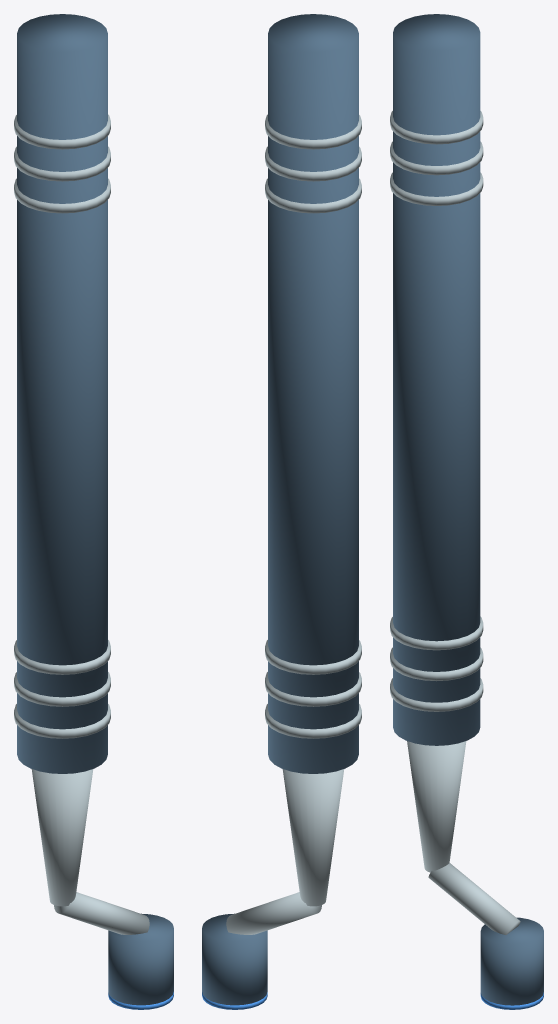
Rendered from curing.glb.
The picture shows the model from 3 angles, left to right: view 1: azimuth 30°, elevation 25°; view 2: azimuth 150°, elevation 25°; view 3: azimuth 330°, elevation 25°; orthographic projection. The views are drawn at different scales.
Parts seen in each view (by area): view 1: Grip.004, Tapered neck.004, Light guide, Angled tip.004, Grip ring.029, Grip ring.028, Grip ring.027, Grip ring.026, Grip ring.024, Grip ring.025; view 2: Grip.004, Tapered neck.004, Light guide, Angled tip.004, Grip ring.029, Grip ring.028, Grip ring.027, Grip ring.026, Grip ring.024, Grip ring.025; view 3: Grip.004, Tapered neck.004, Light guide, Angled tip.004, Grip ring.024, Grip ring.027, Grip ring.025, Grip ring.028, Grip ring.026, Grip ring.029.
Part boxes in pixels (x1=…): Grip.004: x1=17, y1=14, x2=107, y2=773; Tapered neck.004: x1=31, y1=769, x2=93, y2=906; Light guide: x1=108, y1=913, x2=173, y2=1005; Angled tip.004: x1=54, y1=892, x2=149, y2=934; Grip ring.029: x1=14, y1=114, x2=110, y2=149; Grip ring.028: x1=14, y1=146, x2=110, y2=181; Grip ring.027: x1=14, y1=178, x2=110, y2=213; Grip ring.026: x1=14, y1=640, x2=110, y2=674; Grip ring.024: x1=14, y1=704, x2=110, y2=738; Grip ring.025: x1=14, y1=672, x2=110, y2=706; Grip.004: x1=268, y1=14, x2=358, y2=773; Tapered neck.004: x1=282, y1=769, x2=344, y2=906; Light guide: x1=202, y1=913, x2=267, y2=1005; Angled tip.004: x1=226, y1=892, x2=321, y2=934; Grip ring.029: x1=265, y1=114, x2=361, y2=149; Grip ring.028: x1=265, y1=146, x2=361, y2=181; Grip ring.027: x1=265, y1=178, x2=361, y2=213; Grip ring.026: x1=265, y1=640, x2=361, y2=674; Grip ring.024: x1=265, y1=704, x2=361, y2=738; Grip ring.025: x1=265, y1=672, x2=361, y2=706; Grip.004: x1=393, y1=14, x2=480, y2=745; Tapered neck.004: x1=407, y1=741, x2=466, y2=872; Light guide: x1=480, y1=917, x2=543, y2=1005; Angled tip.004: x1=428, y1=863, x2=520, y2=934; Grip ring.024: x1=390, y1=678, x2=483, y2=711; Grip ring.027: x1=390, y1=172, x2=483, y2=205; Grip ring.025: x1=390, y1=647, x2=483, y2=681; Grip ring.028: x1=390, y1=141, x2=483, y2=175; Grip ring.026: x1=390, y1=616, x2=483, y2=650; Grip ring.029: x1=390, y1=111, x2=483, y2=144.
Size of the model in its own units: 0.341 by 2.15 by 0.192.
